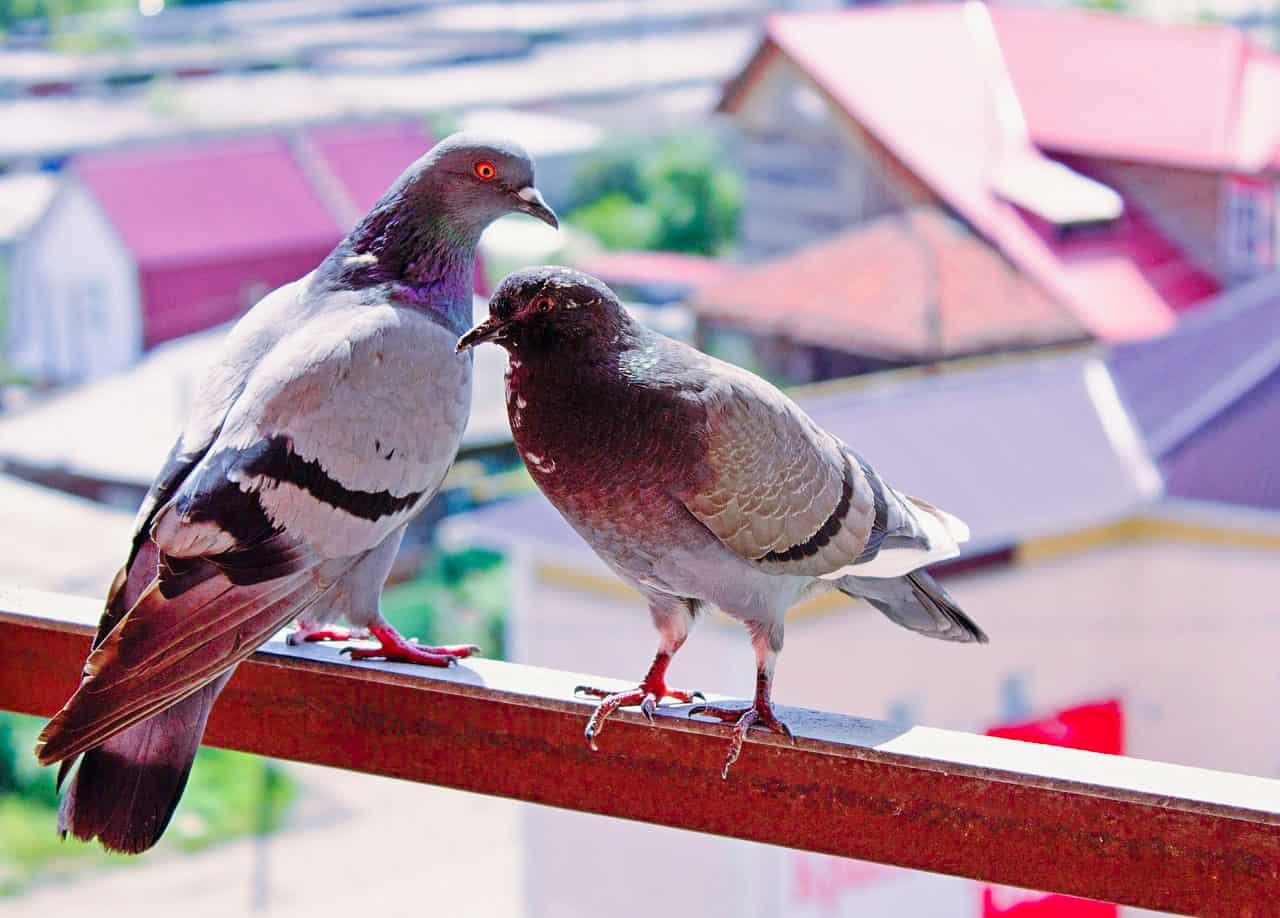Flying Rat: (31, 141, 532, 840), (497, 279, 1012, 781)
